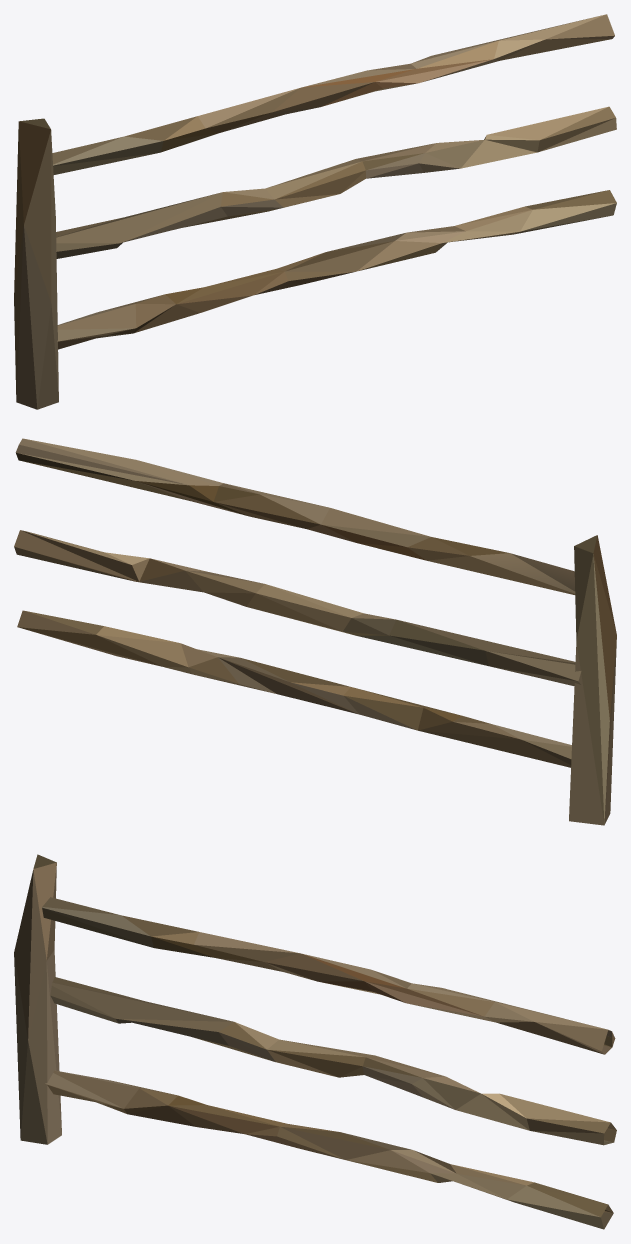
File: Fence_A.fbx
3 renders of one model, top to bottom at view 1: azimuth 30°, elevation 25°; view 2: azimuth 150°, elevation 25°; view 3: azimuth 330°, elevation 25°, orthographic.
Visible parts, largest first — view 1: Fence_A; view 2: Fence_A; view 3: Fence_A.
Boxes of the visible parts, x1,y1,x2,y2 form: Fence_A: (14, 14, 616, 409); Fence_A: (14, 438, 616, 825); Fence_A: (14, 854, 616, 1229).
Bounding box in the file's own units: 389 × 174 × 27.33.
